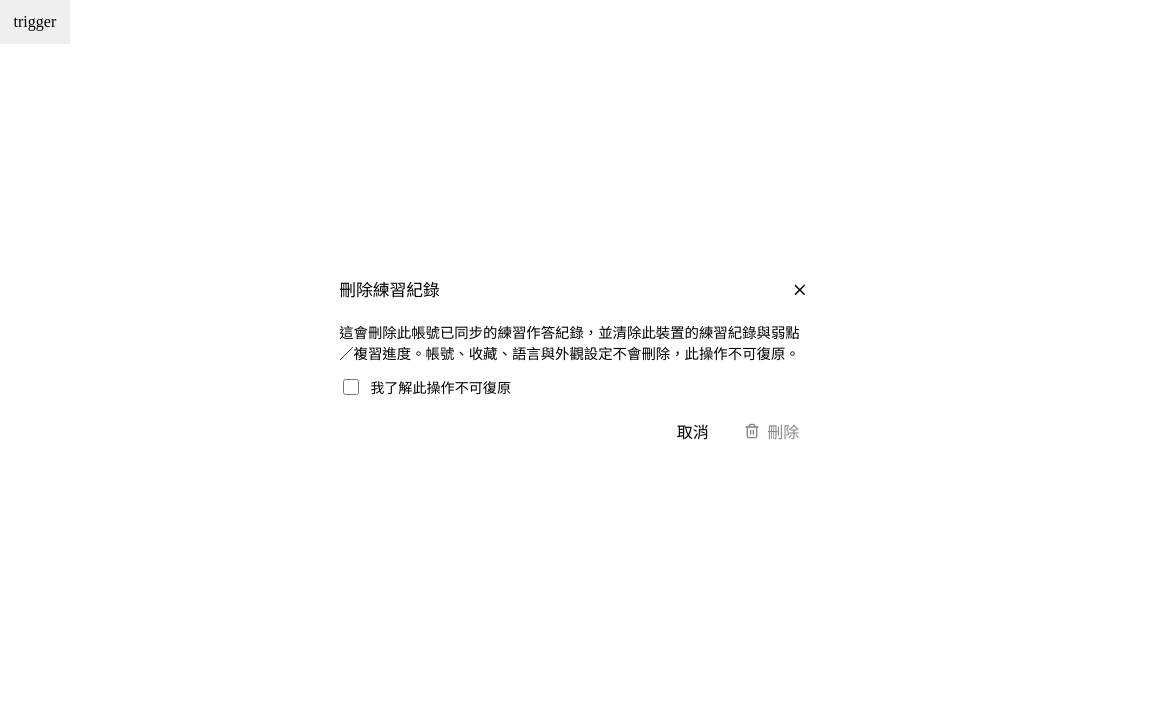
DeletePracticeHistoryDialog (#693) › cancel closes without side effects
The image size is (1152, 720).
Click the button "取消".
click(693, 431)  # box [663,409,722,453]
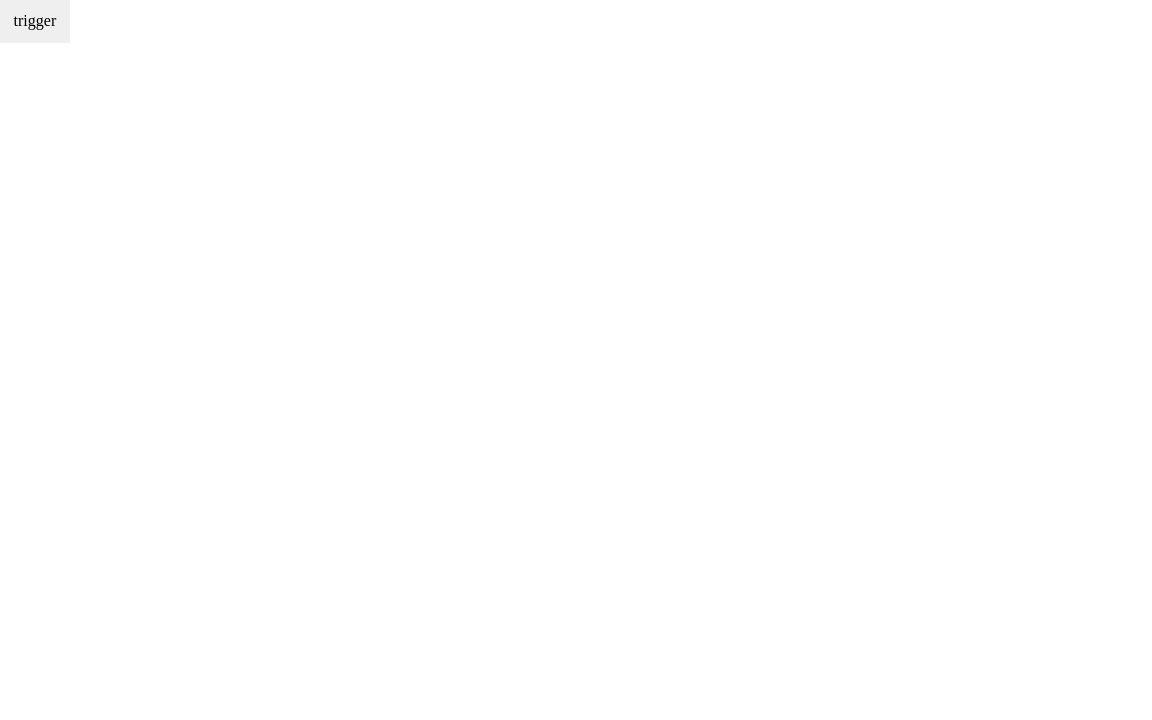
Check: the dialog is gone
